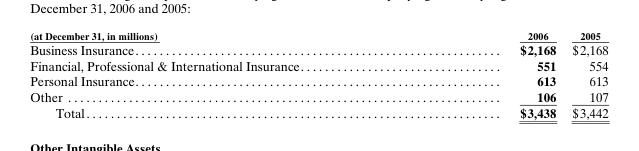table: (29, 29, 607, 120)
table column: (29, 29, 411, 120), (411, 29, 563, 120), (563, 29, 607, 120)
table column header: (29, 29, 607, 41)
table row: (29, 41, 607, 57), (29, 72, 607, 88), (29, 88, 607, 104), (29, 104, 607, 120), (29, 57, 607, 72), (29, 29, 607, 41)
